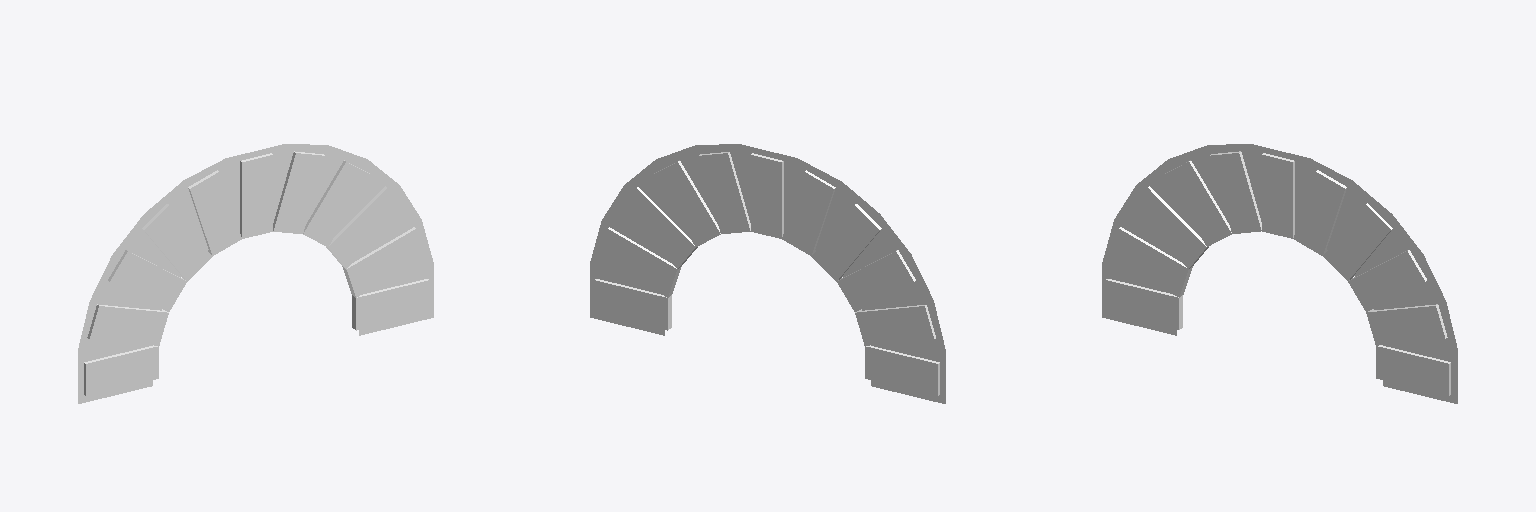
The model's file is lime_mortar_orange_clay_brick_facade_round_arch_1.obj.
3 views of the same model, side by side, from view 1: azimuth 30°, elevation 25°; view 2: azimuth 150°, elevation 25°; view 3: azimuth 330°, elevation 25° (orthographic).
Visible parts, largest first — view 1: brick.032, brick.034, brick.036, brick.040, brick.038, brick.042, brick.033, brick.035, brick.041, brick.039, brick.037, cube.042 (+8 smaller); view 2: brick.032, brick.034, brick.040, brick.038, brick.042, brick.036, brick.033, brick.041, brick.035, brick.039, brick.037, cube.037 (+12 smaller); view 3: brick.035, brick.033, brick.037, brick.041, brick.039, brick.042, brick.040, brick.032, brick.034, brick.038, brick.036, cube.042 (+8 smaller).
Boxes of the visible parts, x1=… form: brick.032: x1=352, y1=279, x2=429, y2=330; brick.034: x1=342, y1=227, x2=425, y2=297; brick.036: x1=326, y1=186, x2=405, y2=268; brick.040: x1=273, y1=151, x2=324, y2=233; brick.038: x1=303, y1=160, x2=370, y2=246; brick.042: x1=240, y1=153, x2=272, y2=238; brick.033: x1=84, y1=345, x2=158, y2=395; brick.035: x1=87, y1=304, x2=168, y2=345; brick.041: x1=188, y1=170, x2=241, y2=255; brick.039: x1=142, y1=204, x2=212, y2=281; brick.037: x1=108, y1=250, x2=186, y2=311; cube.042: x1=226, y1=144, x2=285, y2=230; brick.032: x1=594, y1=279, x2=671, y2=330; brick.034: x1=598, y1=227, x2=681, y2=297; brick.040: x1=699, y1=152, x2=750, y2=233; brick.038: x1=653, y1=160, x2=720, y2=246; brick.042: x1=751, y1=153, x2=783, y2=238; brick.036: x1=618, y1=187, x2=697, y2=268; brick.033: x1=865, y1=345, x2=939, y2=395; brick.041: x1=782, y1=170, x2=835, y2=255; brick.035: x1=855, y1=305, x2=935, y2=345; brick.039: x1=811, y1=204, x2=881, y2=281; brick.037: x1=837, y1=250, x2=915, y2=311; cube.037: x1=842, y1=214, x2=911, y2=277; brick.035: x1=1109, y1=227, x2=1192, y2=297; brick.033: x1=1106, y1=279, x2=1182, y2=329; brick.037: x1=1129, y1=186, x2=1208, y2=268; brick.041: x1=1210, y1=151, x2=1261, y2=233; brick.039: x1=1164, y1=160, x2=1231, y2=246; brick.042: x1=1262, y1=153, x2=1294, y2=238; brick.040: x1=1293, y1=170, x2=1346, y2=255; brick.032: x1=1376, y1=345, x2=1450, y2=395; brick.034: x1=1366, y1=304, x2=1447, y2=345; brick.038: x1=1323, y1=203, x2=1392, y2=280; brick.036: x1=1348, y1=250, x2=1426, y2=311; cube.042: x1=1250, y1=144, x2=1309, y2=231.
Size of the model in its own units: 1.78 by 1.01 by 0.0374.